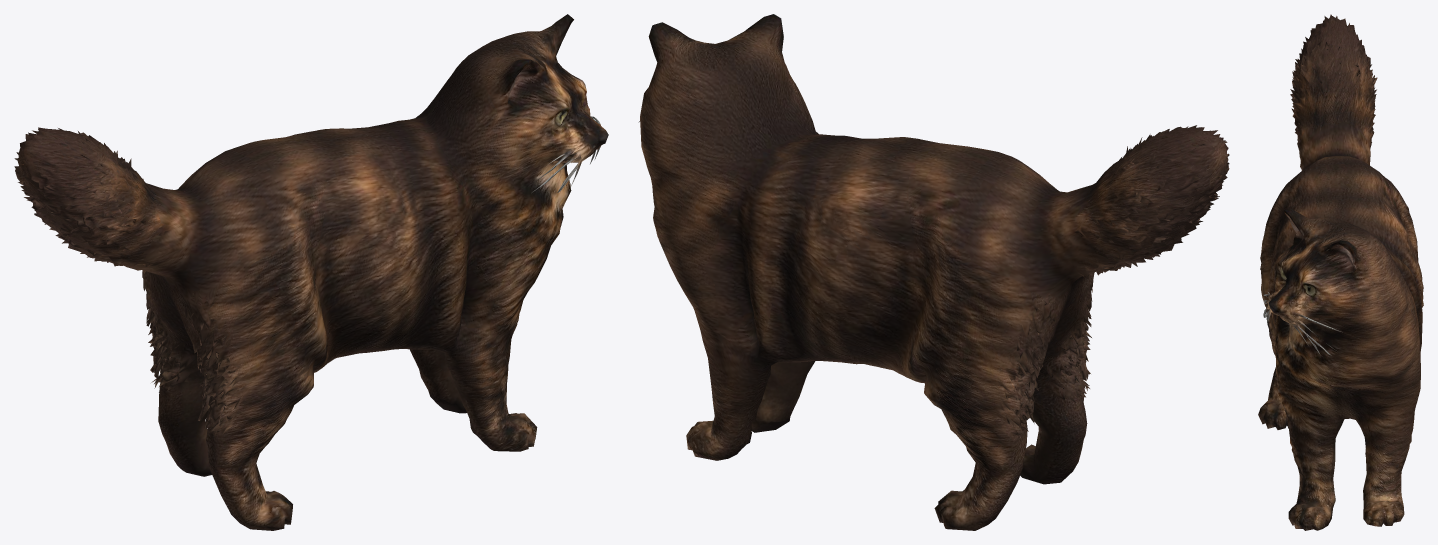
Rendered from TRINKETCAT.glb.
3 views of the same model, side by side, from view 1: azimuth 30°, elevation 25°; view 2: azimuth 150°, elevation 25°; view 3: azimuth 270°, elevation 25° (orthographic). The views are drawn at different scales.
Parts seen in each view (by area): view 1: tripo_node_9bd8f787-7526-4726-bea3-d852550b06ac; view 2: tripo_node_9bd8f787-7526-4726-bea3-d852550b06ac; view 3: tripo_node_9bd8f787-7526-4726-bea3-d852550b06ac.
Part boxes in pixels (x1,y1,x2,y2): tripo_node_9bd8f787-7526-4726-bea3-d852550b06ac: [14, 14, 608, 530]; tripo_node_9bd8f787-7526-4726-bea3-d852550b06ac: [638, 14, 1229, 530]; tripo_node_9bd8f787-7526-4726-bea3-d852550b06ac: [1258, 14, 1423, 530].
Size of the model in its own units: 1.45 by 1 by 0.4522.
Materials: 1 (1 with a texture image).
